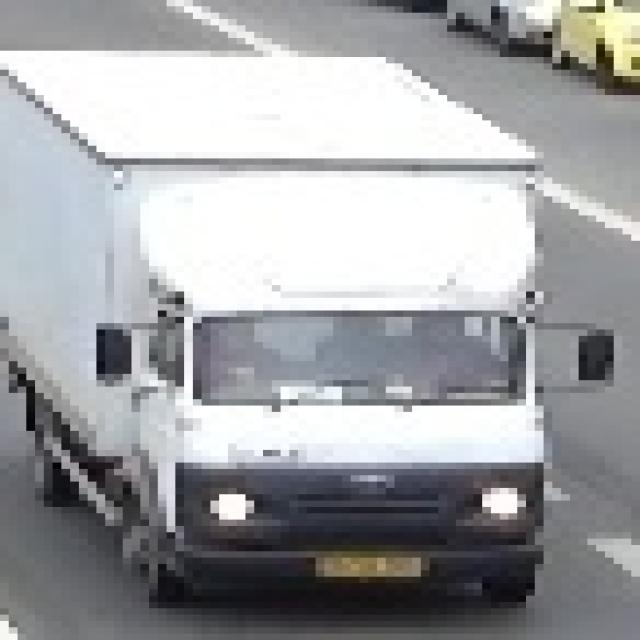truck: (0, 44, 605, 634)
